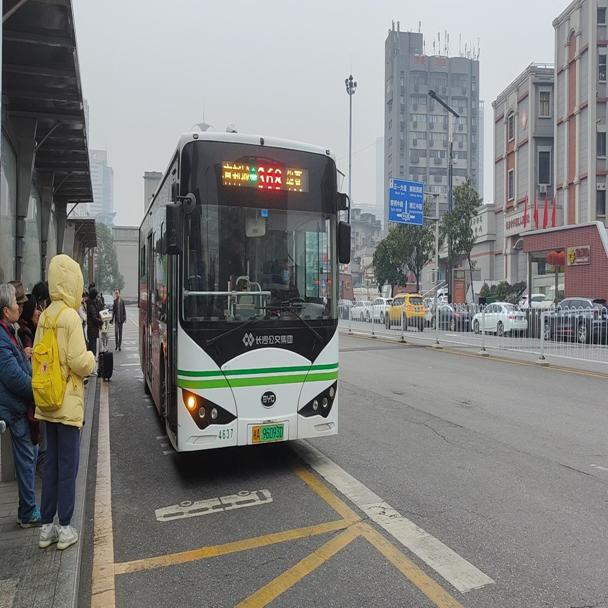bus: (133, 130, 349, 454)
screen: (256, 159, 281, 190)
